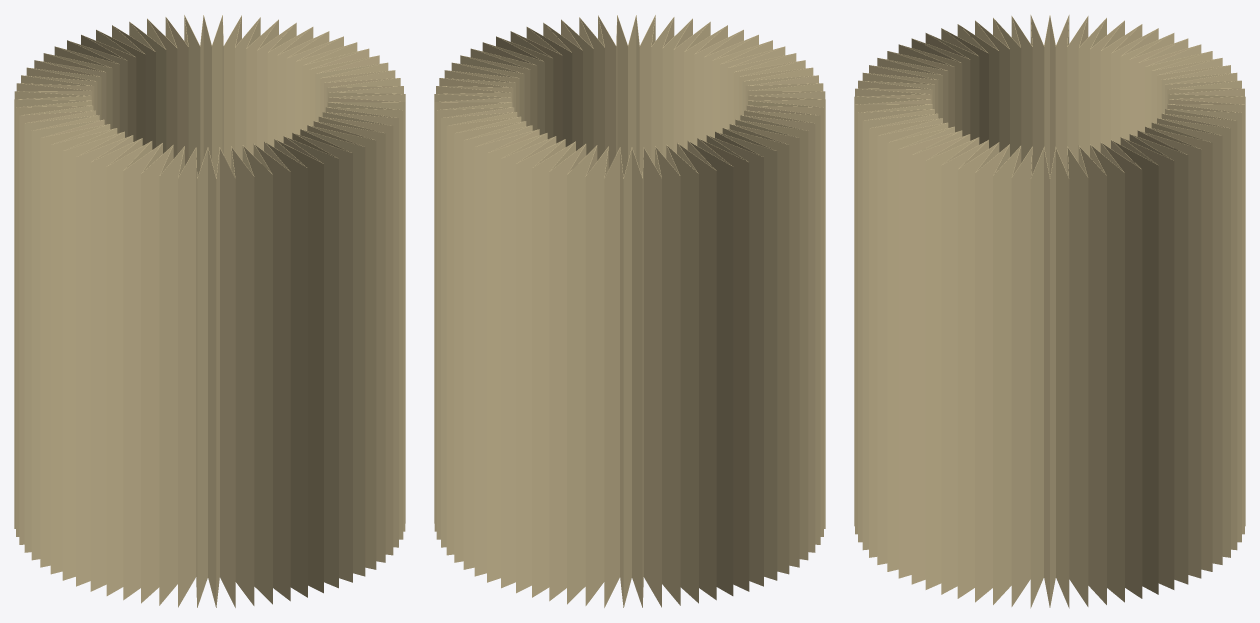
File: oil-filter-media.glb
3 renders of one model, left to right at view 1: azimuth 30°, elevation 25°; view 2: azimuth 150°, elevation 25°; view 3: azimuth 270°, elevation 25°, orthographic.
Visible parts, largest first — view 1: world; view 2: world; view 3: world.
Part boxes in pixels (x1,y1,x2,y2): world: (14,15,405,607); world: (434,15,825,607); world: (854,14,1245,608).
Size of the model in its own units: 0.0785 by 0.095 by 0.0785.
